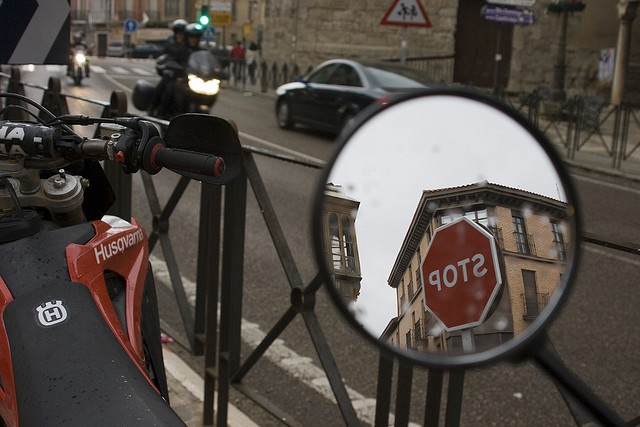non-vehicle: (0, 88, 227, 422), (133, 50, 223, 113), (66, 43, 96, 86)
